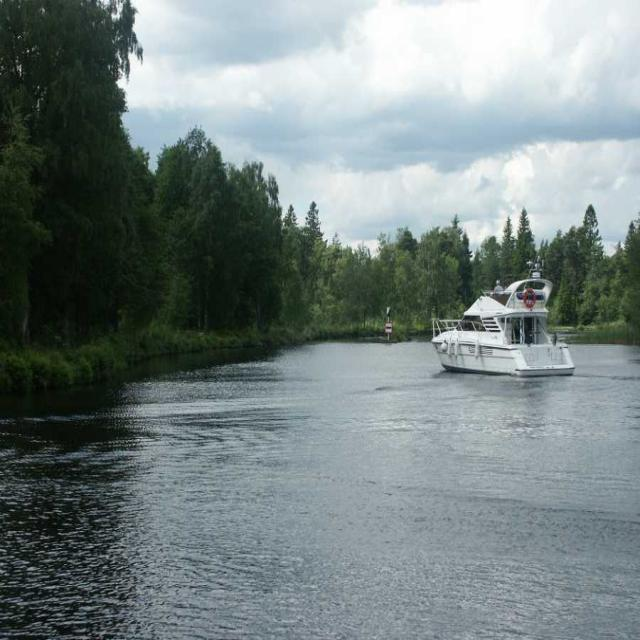houseboat: (422, 273, 580, 377)
